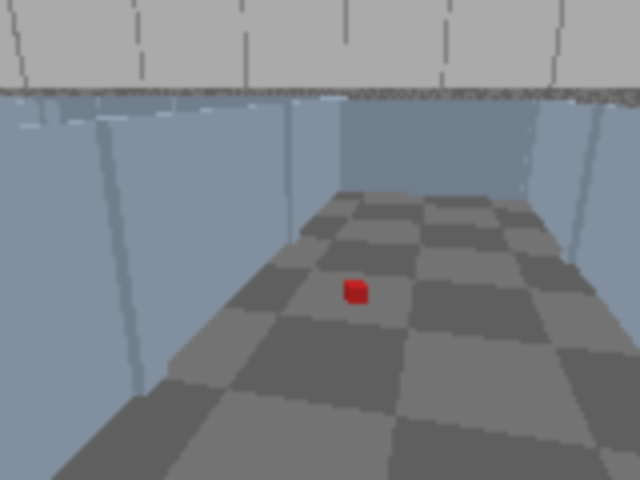puck: (344, 279, 369, 306)
